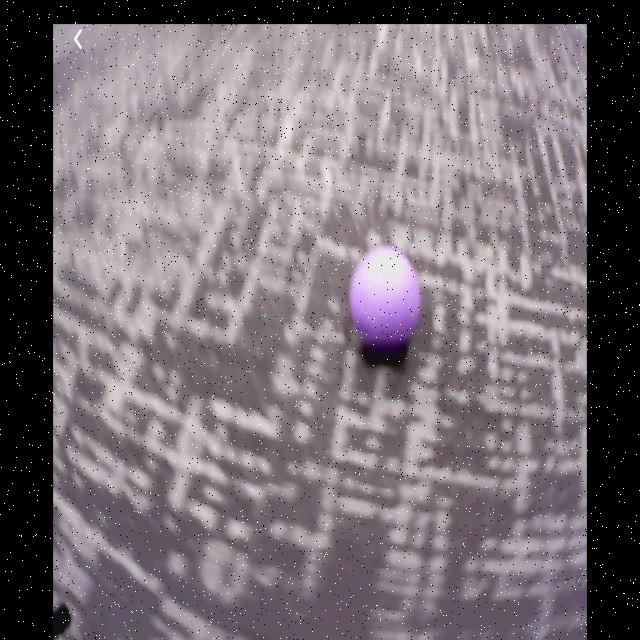ball: (350, 247, 420, 352)
